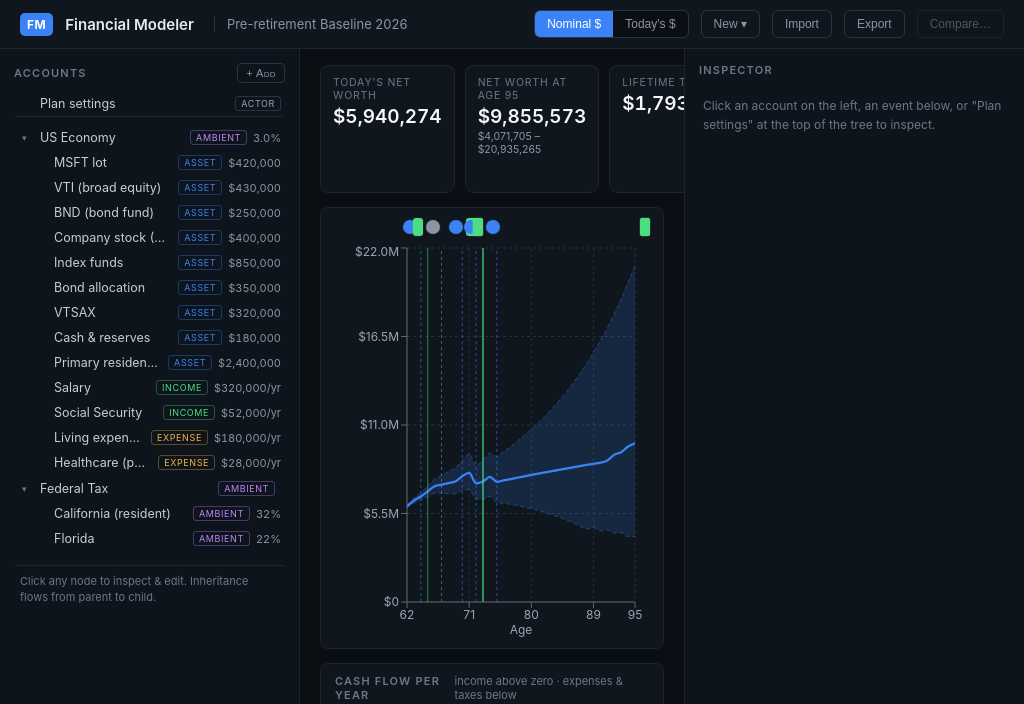
UC4 — edit Plan settings › typing in the title input updates actor.scenario_name
Click the text "Plan settings".
click(78, 104)  # box x1=40 y1=96 x2=116 y2=111
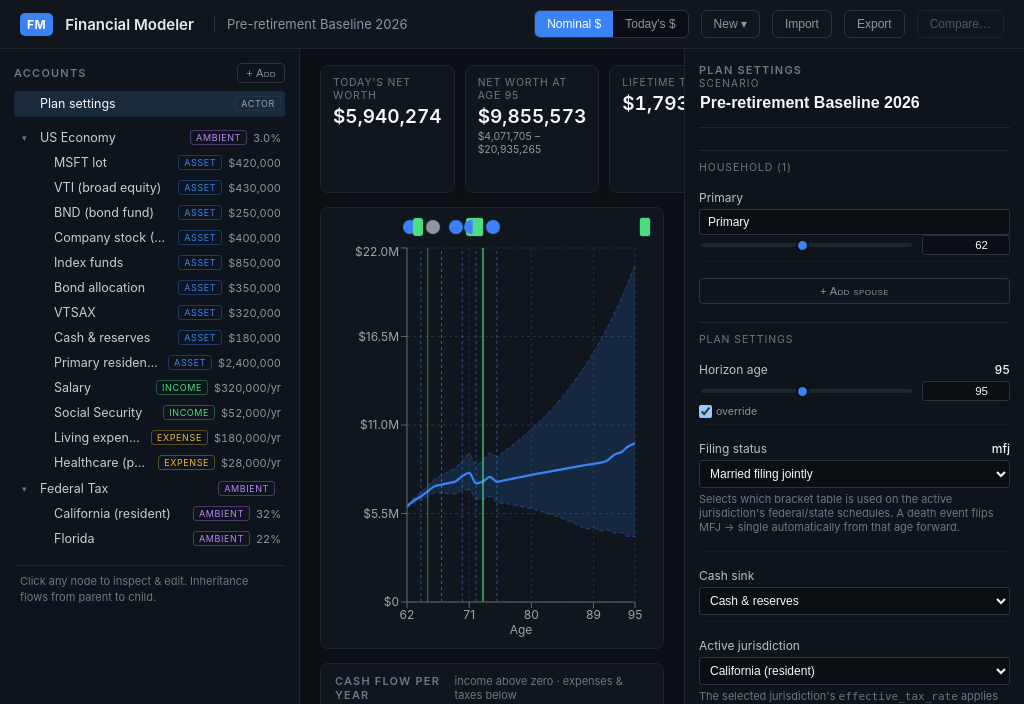
Replace the text in the field showing "Pre-retirement Baseline 2026" with "Connecticut Plan" at (848,103), box x1=693 y1=89 x2=1004 y2=117
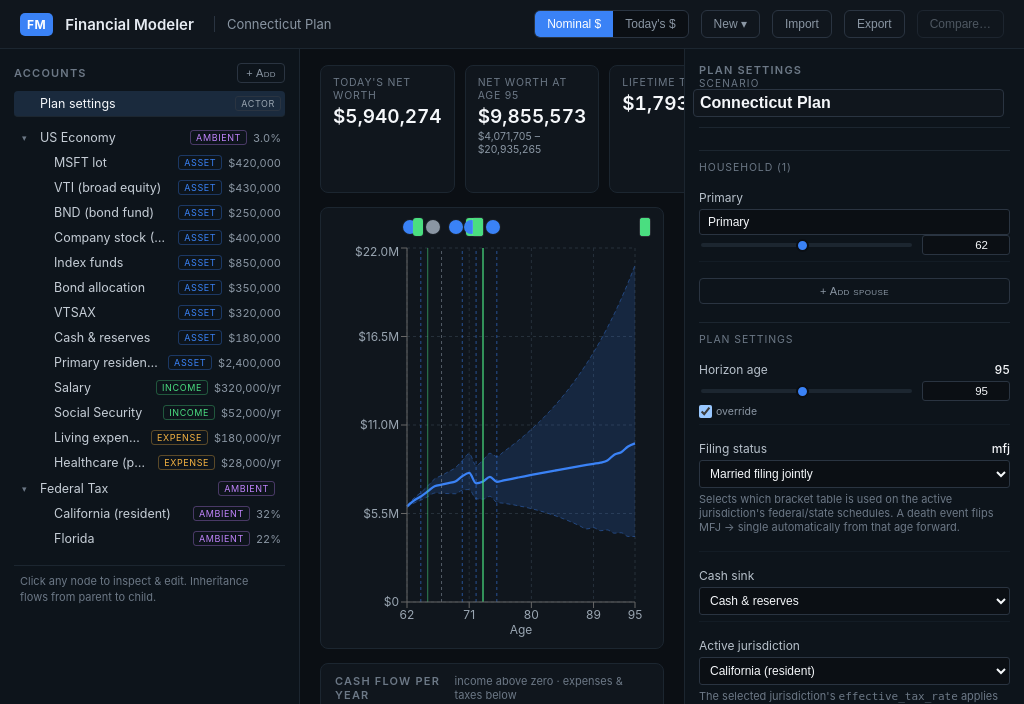
Check: the text "Connecticut Plan" is shown, box x1=214 y1=16 x2=331 y2=32
